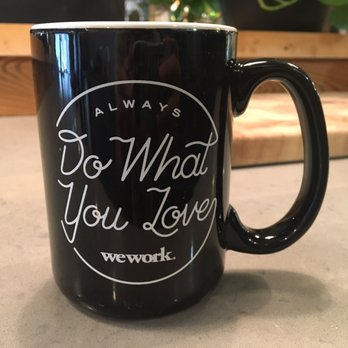wework: (98, 245, 173, 265)
